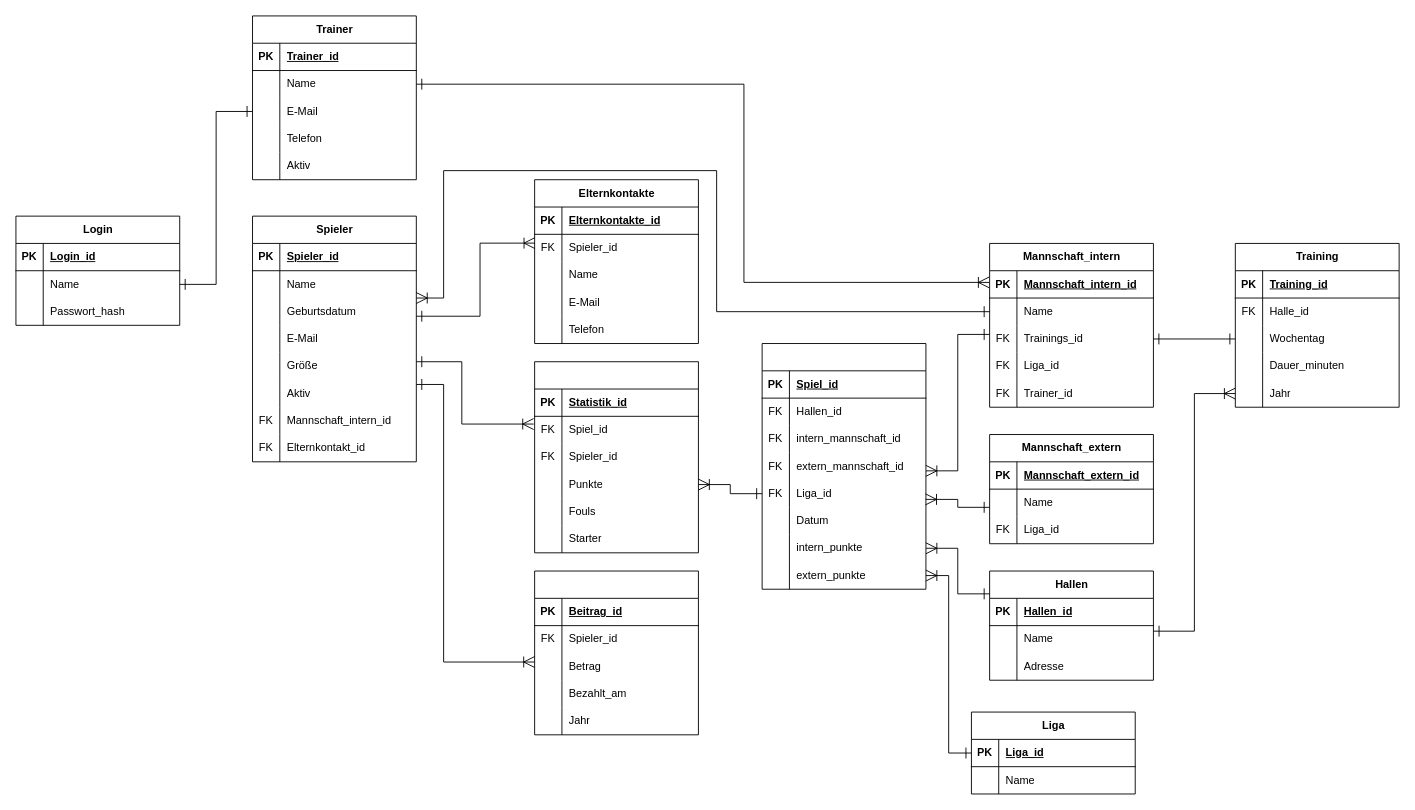
The diagram is 1415 pixels wide and 810 high, and some of its shapes have lost their labels. The box of each missing label's shape, as (x1, y1, x2, y2) in pixels:
Mitgliedsbeitrag: (534, 570, 698, 735)
Spiele: (761, 343, 926, 589)
Spielerstatistiken: (534, 361, 698, 553)
